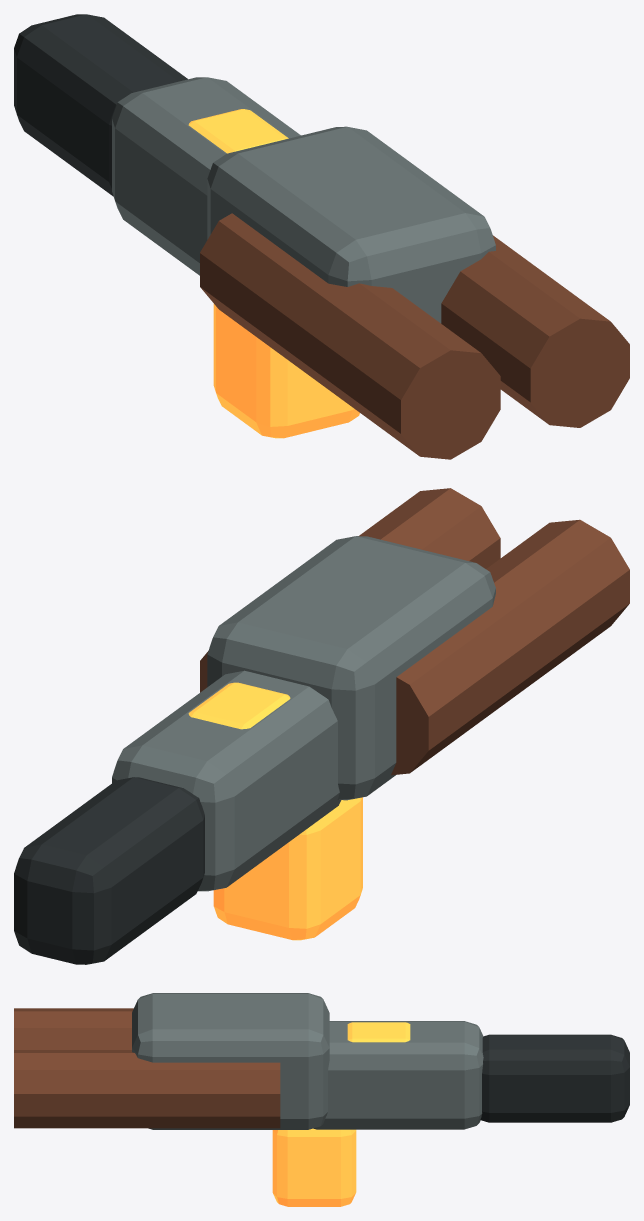
The model's file is hellbreaker.glb.
3 views of the same model, one above another, from view 1: azimuth 30°, elevation 25°; view 2: azimuth 150°, elevation 25°; view 3: azimuth 270°, elevation 25° (orthographic). The views are drawn at different scales.
Parts seen in each view (by area): view 1: Hellbreaker; view 2: Hellbreaker; view 3: Hellbreaker.
Boxes of the visible parts, <box> form: Hellbreaker: <box>14,14,629,459</box>; Hellbreaker: <box>14,488,629,964</box>; Hellbreaker: <box>14,993,629,1206</box>.
Bounding box in the file's own units: 0.4597 × 0.535 × 1.62.
